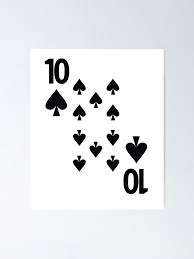ten of spades: (25, 45, 164, 210)
